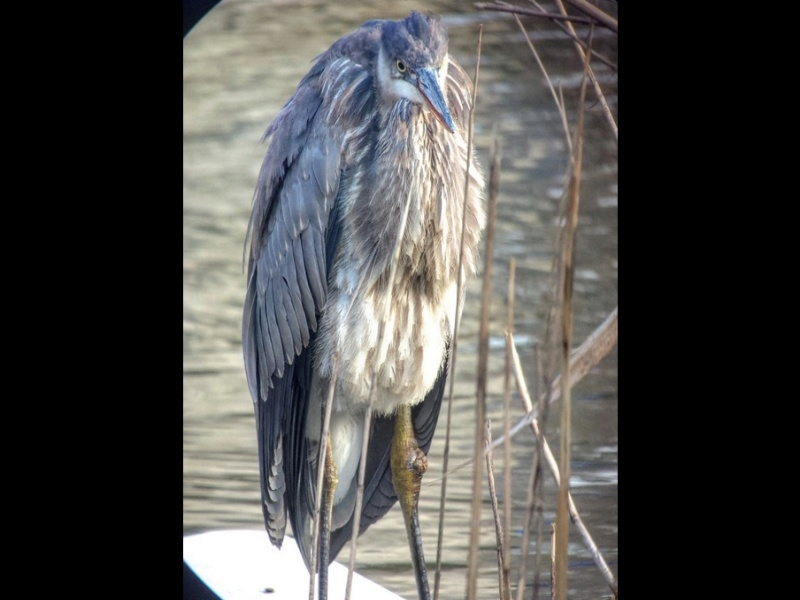heron: (240, 13, 470, 600)
